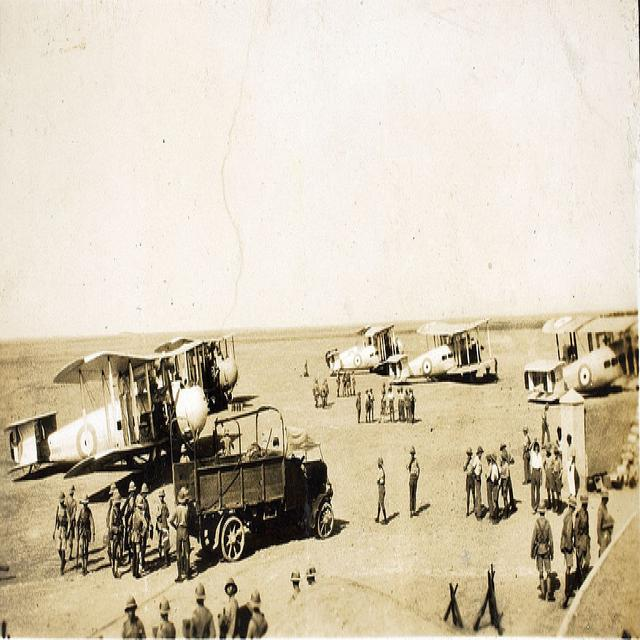Vehicle: (173, 453, 334, 560)
